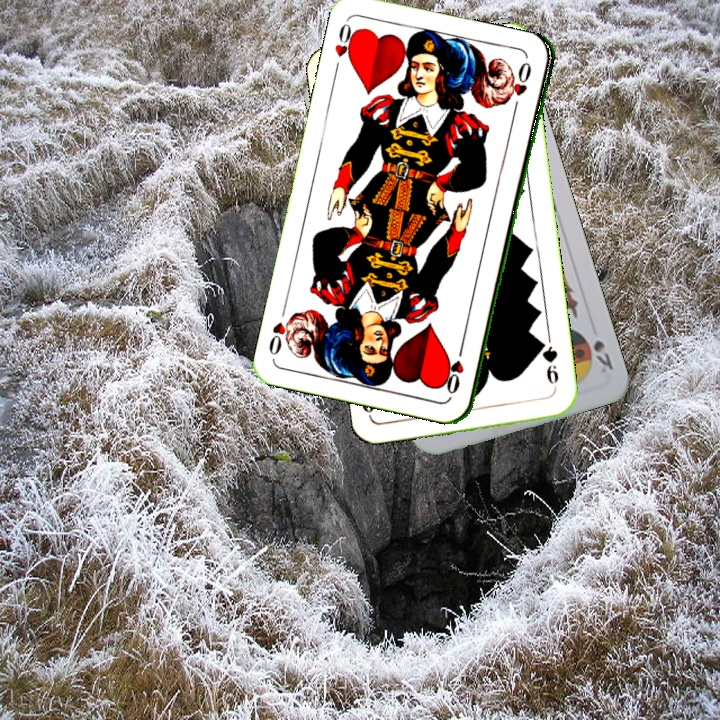G9: (536, 336, 562, 387)
HO: (330, 17, 361, 66), (444, 339, 467, 397)
SK: (589, 336, 616, 376)
